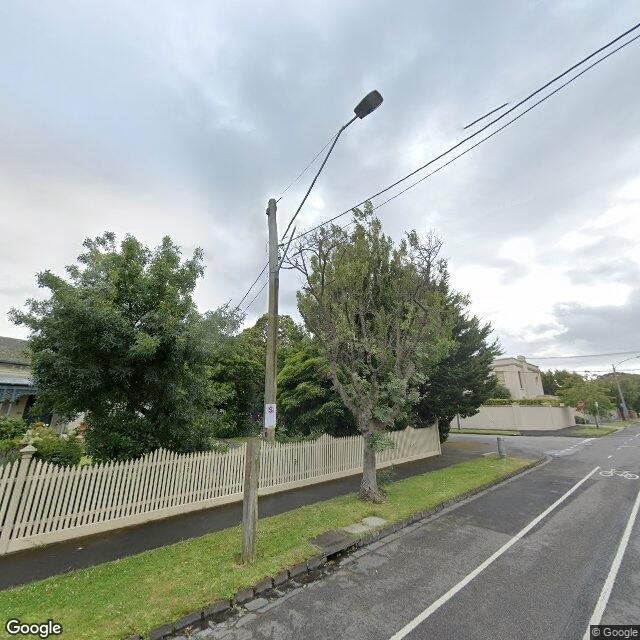streetlight: (277, 90, 384, 276), (614, 355, 640, 369)
timber-pole: (239, 198, 278, 564), (612, 364, 629, 421)
